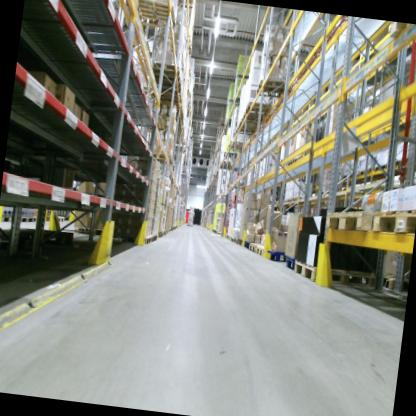pallet: (292, 252, 380, 298), (322, 200, 375, 236), (370, 199, 416, 235), (133, 0, 179, 30), (94, 227, 152, 248), (256, 72, 293, 97), (145, 61, 183, 84), (145, 143, 176, 166), (386, 21, 416, 41), (244, 98, 275, 114), (264, 246, 289, 264), (246, 241, 269, 256), (282, 253, 296, 272), (146, 230, 158, 247), (255, 244, 267, 260), (291, 195, 302, 202), (243, 239, 249, 250), (297, 154, 305, 161), (230, 234, 236, 243), (292, 155, 298, 164), (287, 158, 293, 166), (238, 237, 243, 246), (287, 196, 293, 203), (234, 236, 239, 244), (223, 230, 227, 238), (225, 233, 229, 240), (228, 234, 232, 240)
